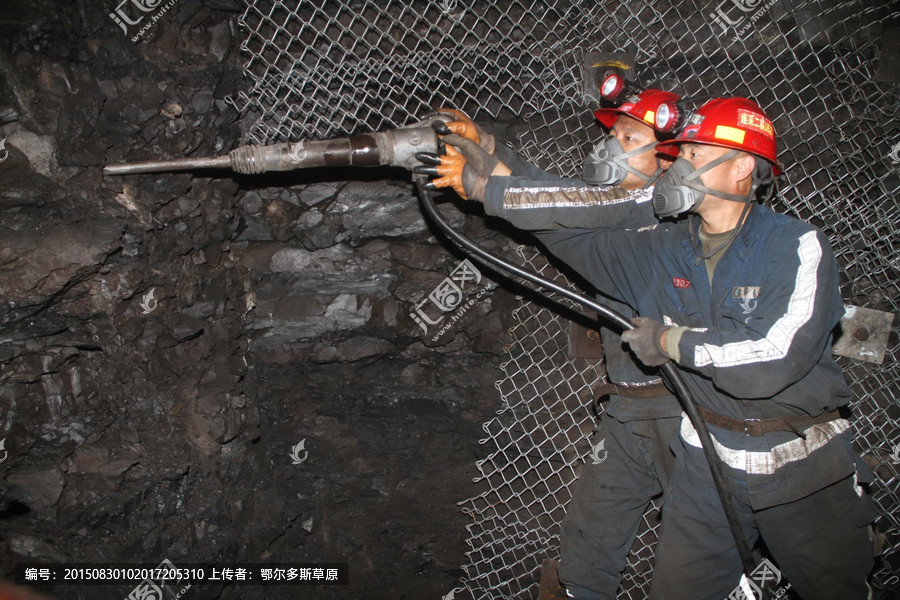helmet: (678, 101, 782, 213), (584, 76, 682, 186)
